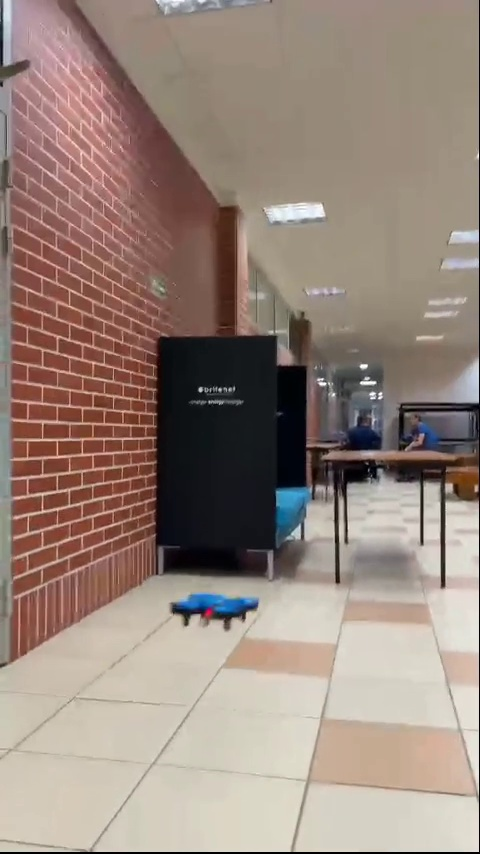drone: (177, 589, 251, 632)
no vest: (396, 408, 444, 460), (341, 407, 384, 455)
